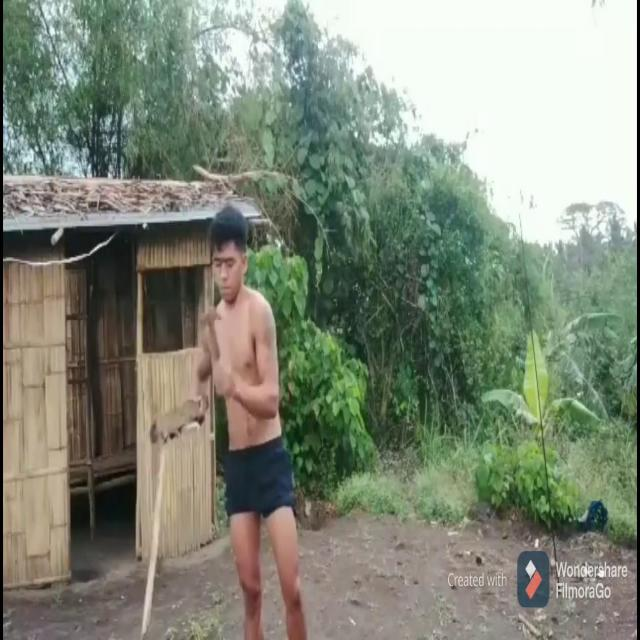hammer: (198, 308, 222, 358)
